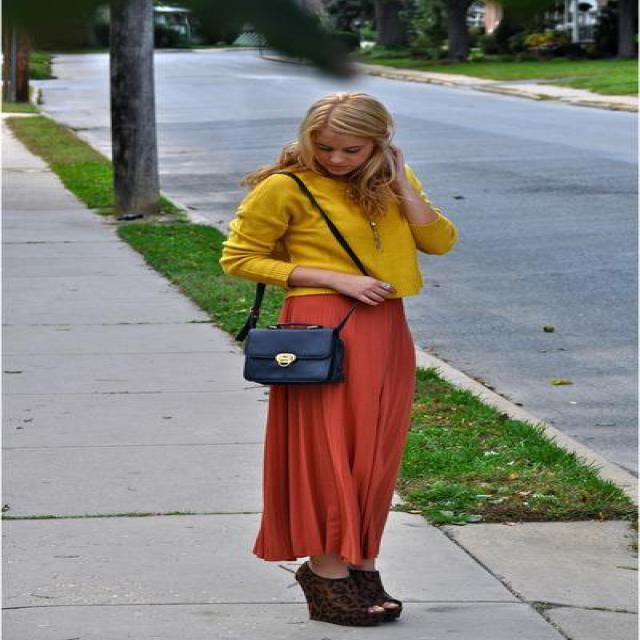bag: (230, 320, 348, 386)
jacket: (220, 174, 454, 300)
shoe: (296, 565, 419, 626)
skirt: (253, 284, 435, 570)
